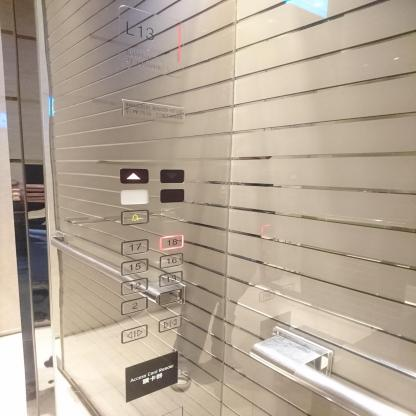12: (121, 277, 148, 296)
13: (158, 270, 184, 287)
15: (120, 257, 149, 276)
16: (159, 252, 184, 269)
17: (121, 238, 149, 256)
18: (159, 234, 184, 251)
2: (121, 296, 148, 316)
alarm: (121, 209, 150, 225)
close: (158, 314, 182, 333), (258, 289, 274, 301)
down: (159, 168, 185, 184)
empty: (158, 288, 183, 307), (120, 188, 149, 204), (159, 188, 185, 203)
open: (121, 323, 148, 344), (280, 284, 294, 294)
speaker: (159, 206, 185, 223)
up: (119, 167, 149, 184)
